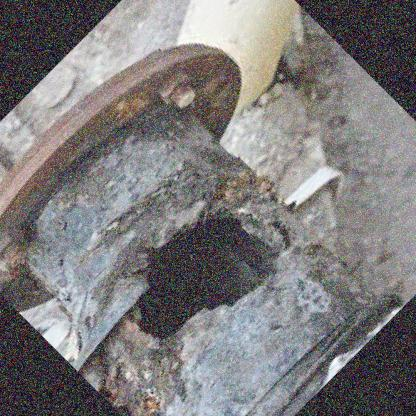burst: (118, 210, 286, 337)
